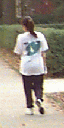person: (13, 14, 52, 114)
